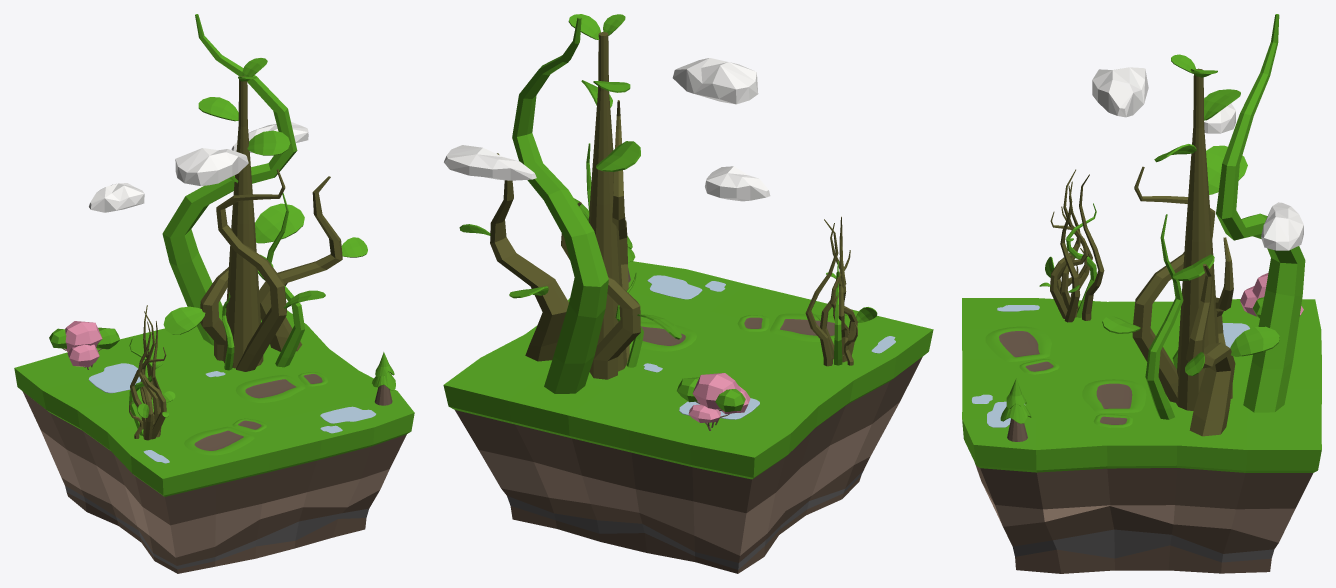
The model's file is Island_2.fbx.
3 renders of one model, left to right at view 1: azimuth 30°, elevation 25°; view 2: azimuth 150°, elevation 25°; view 3: azimuth 270°, elevation 25°, orthographic. The views are drawn at different scales.
Visible parts, largest first — view 1: Isl_2_Base, Isl_2_Beanstalk_2, Isl_2_Tracks_1, Isl_2_Beanstalk_1, Isl_2_Cloud_1, Isl_2_Tree_1, Isl_2_Cloud_2, Isl_2_Tree_2, Isl_2_Cloud_3; view 2: Isl_2_Base, Isl_2_Beanstalk_2, Isl_2_Beanstalk_1, Isl_2_Tracks_1, Isl_2_Cloud_1, Isl_2_Tree_1, Isl_2_Cloud_3, Isl_2_Cloud_2; view 3: Isl_2_Base, Isl_2_Beanstalk_2, Isl_2_Tracks_1, Isl_2_Beanstalk_1, Isl_2_Cloud_1, Isl_2_Cloud_3, Isl_2_Tree_2, Isl_2_Tree_1, Isl_2_Cloud_2.
Part boxes in pixels (left/top/right/bottom): Isl_2_Base: left=14, top=310, right=414, bottom=573; Isl_2_Beanstalk_2: left=162, top=14, right=367, bottom=371; Isl_2_Tracks_1: left=184, top=372, right=327, bottom=455; Isl_2_Beanstalk_1: left=129, top=305, right=175, bottom=440; Isl_2_Cloud_1: left=175, top=148, right=248, bottom=185; Isl_2_Tree_1: left=49, top=321, right=119, bottom=369; Isl_2_Cloud_2: left=89, top=183, right=144, bottom=212; Isl_2_Tree_2: left=372, top=352, right=395, bottom=405; Isl_2_Cloud_3: left=231, top=122, right=308, bottom=152; Isl_2_Base: left=443, top=261, right=933, bottom=573; Isl_2_Beanstalk_2: left=459, top=14, right=681, bottom=393; Isl_2_Beanstalk_1: left=805, top=216, right=877, bottom=366; Isl_2_Tracks_1: left=630, top=313, right=849, bottom=351; Isl_2_Cloud_1: left=672, top=58, right=758, bottom=104; Isl_2_Tree_1: left=677, top=373, right=750, bottom=430; Isl_2_Cloud_3: left=444, top=145, right=536, bottom=180; Isl_2_Cloud_2: left=705, top=166, right=770, bottom=201; Isl_2_Base: left=962, top=298, right=1321, bottom=573; Isl_2_Beanstalk_2: left=1102, top=14, right=1305, bottom=436; Isl_2_Tracks_1: left=985, top=326, right=1146, bottom=427; Isl_2_Beanstalk_1: left=1039, top=169, right=1104, bottom=322; Isl_2_Cloud_1: left=1092, top=67, right=1148, bottom=117; Isl_2_Cloud_3: left=1261, top=202, right=1303, bottom=250; Isl_2_Tree_2: left=1000, top=378, right=1031, bottom=441; Isl_2_Tree_1: left=1240, top=272, right=1303, bottom=318; Isl_2_Cloud_2: left=1204, top=97, right=1235, bottom=133.
Size of the model in its own units: 2337 by 2040 by 3273.
